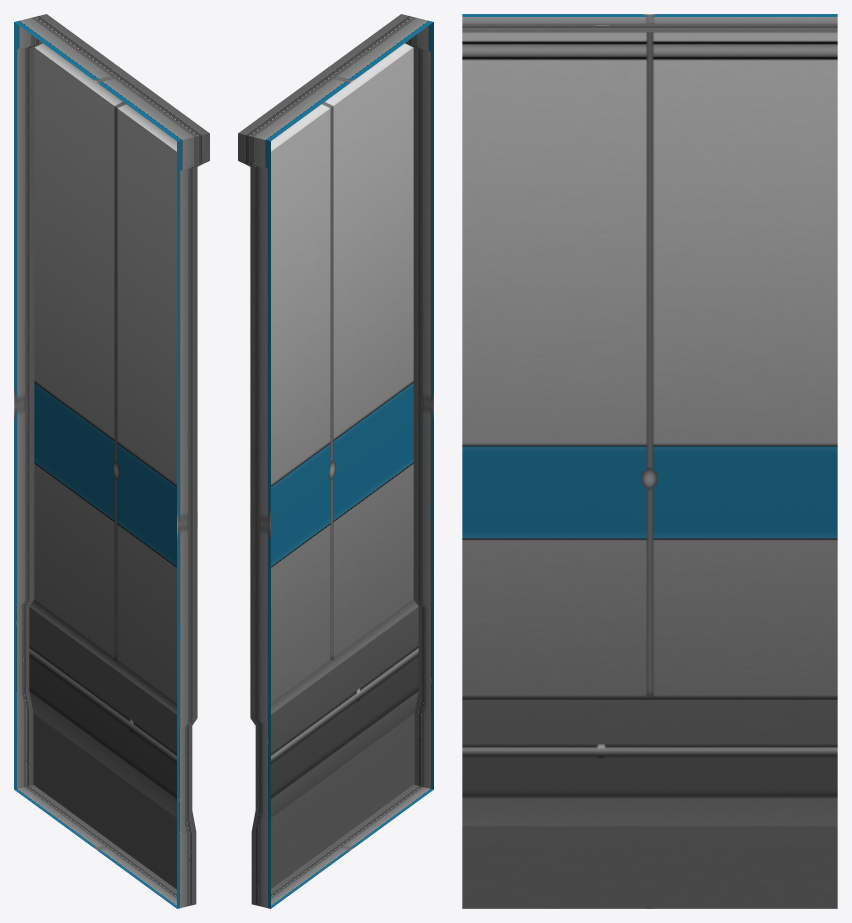
File: VAL_2U_BB.fbx
3 renders of one model, left to right at view 1: azimuth 30°, elevation 25°; view 2: azimuth 150°, elevation 25°; view 3: azimuth 270°, elevation 25°, orthographic. The views are drawn at different scales.
Parts seen in each view (by area): view 1: VAL_2U_BB; view 2: VAL_2U_BB; view 3: VAL_2U_BB.
Part boxes in pixels (left/top/right/bottom): VAL_2U_BB: left=14, top=14, right=209, bottom=908; VAL_2U_BB: left=238, top=14, right=433, bottom=908; VAL_2U_BB: left=462, top=14, right=837, bottom=908.
Size of the model in its own units: 0.201 by 4.5 by 1.73.
1 material, 1 textured.
